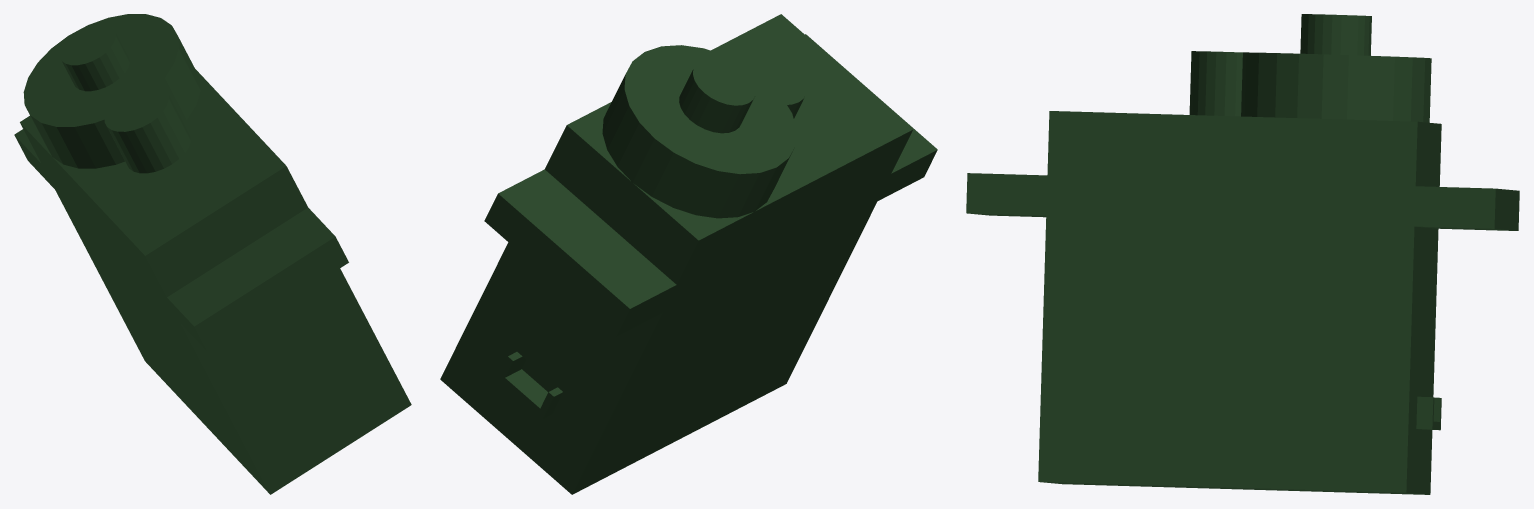
File: ant_leftJaw_vis_1.dae
3 views of the same model, side by side, from view 1: azimuth 30°, elevation 25°; view 2: azimuth 150°, elevation 25°; view 3: azimuth 270°, elevation 25° (orthographic). The views are drawn at different scales.
Parts seen in each view (by area): view 1: node; view 2: node; view 3: node.
Part boxes in pixels (x1,y1,x2,y2): node: [14, 14, 411, 494]; node: [440, 14, 937, 494]; node: [966, 14, 1519, 494].
Size of the model in its own units: 0.0352 by 0.0459 by 0.0514.
